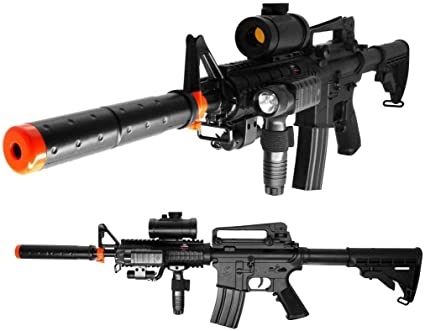Arma Falsa: (1, 3, 425, 200), (13, 211, 422, 323)
